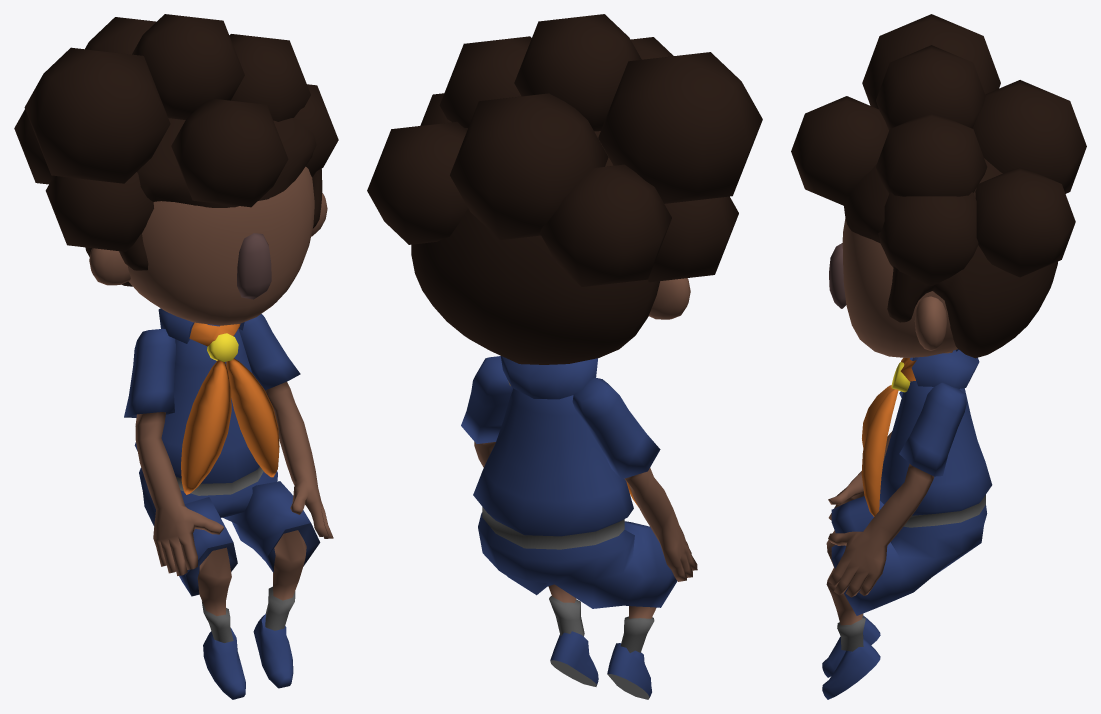
Rendered from Artie_Seated.fbx.
The picture shows the model from 3 angles, left to right: view 1: azimuth 30°, elevation 25°; view 2: azimuth 150°, elevation 25°; view 3: azimuth 270°, elevation 25°; orthographic projection. The views are drawn at different scales.
Parts seen in each view (by area): view 1: Subdivision_Surface; view 2: Subdivision_Surface; view 3: Subdivision_Surface.
Boxes of the visible parts, bbox=[...] form: Subdivision_Surface: bbox=[14, 14, 338, 699]; Subdivision_Surface: bbox=[367, 14, 762, 699]; Subdivision_Surface: bbox=[791, 14, 1086, 699].
Size of the model in its own units: 67.12 by 140 by 60.1.
1 material, 1 textured.
